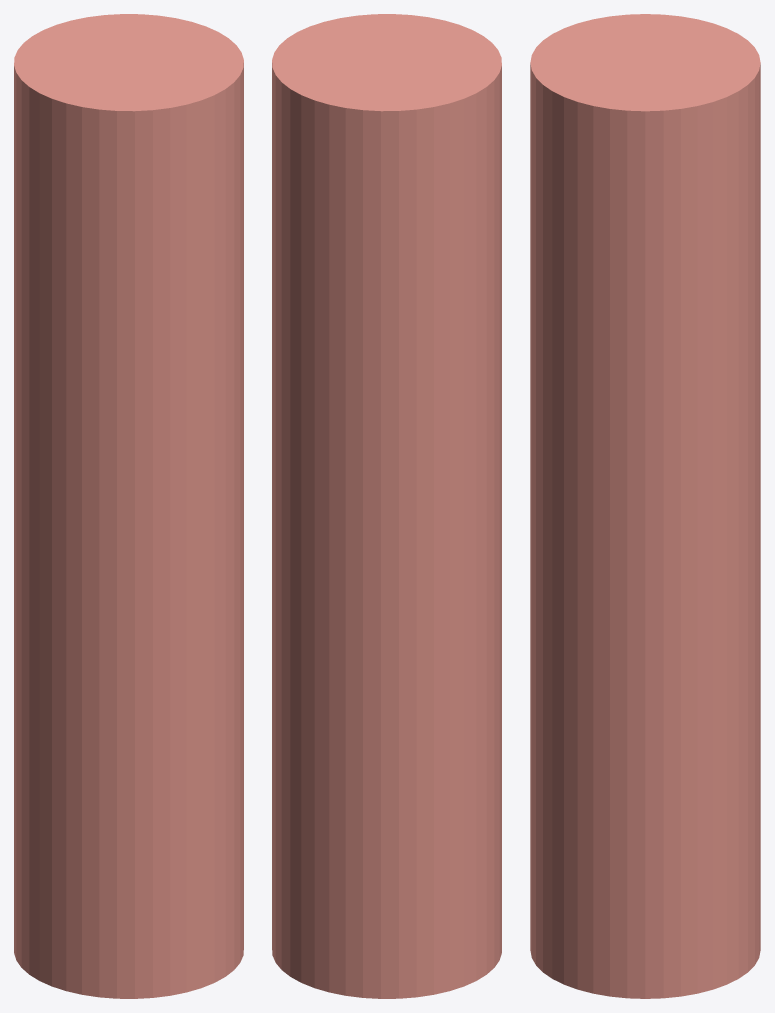
File: gen_aerosol-can_03.glb
3 renders of one model, left to right at view 1: azimuth 30°, elevation 25°; view 2: azimuth 150°, elevation 25°; view 3: azimuth 270°, elevation 25°, orthographic.
Visible parts, largest first — view 1: z-up-to-y-up; view 2: z-up-to-y-up; view 3: z-up-to-y-up.
Boxes of the visible parts, bbox=[...] form: z-up-to-y-up: bbox=[14, 14, 243, 998]; z-up-to-y-up: bbox=[272, 14, 501, 998]; z-up-to-y-up: bbox=[530, 14, 760, 998].
Size of the model in its own units: 0.0542 by 0.2305 by 0.0542.
